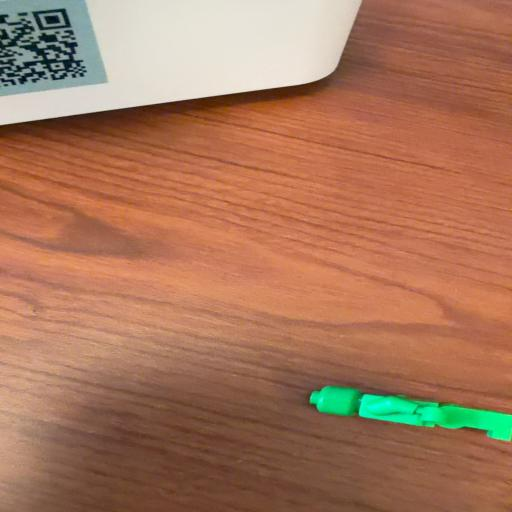UnoQ-minifig-detector: (310, 386, 512, 441)
